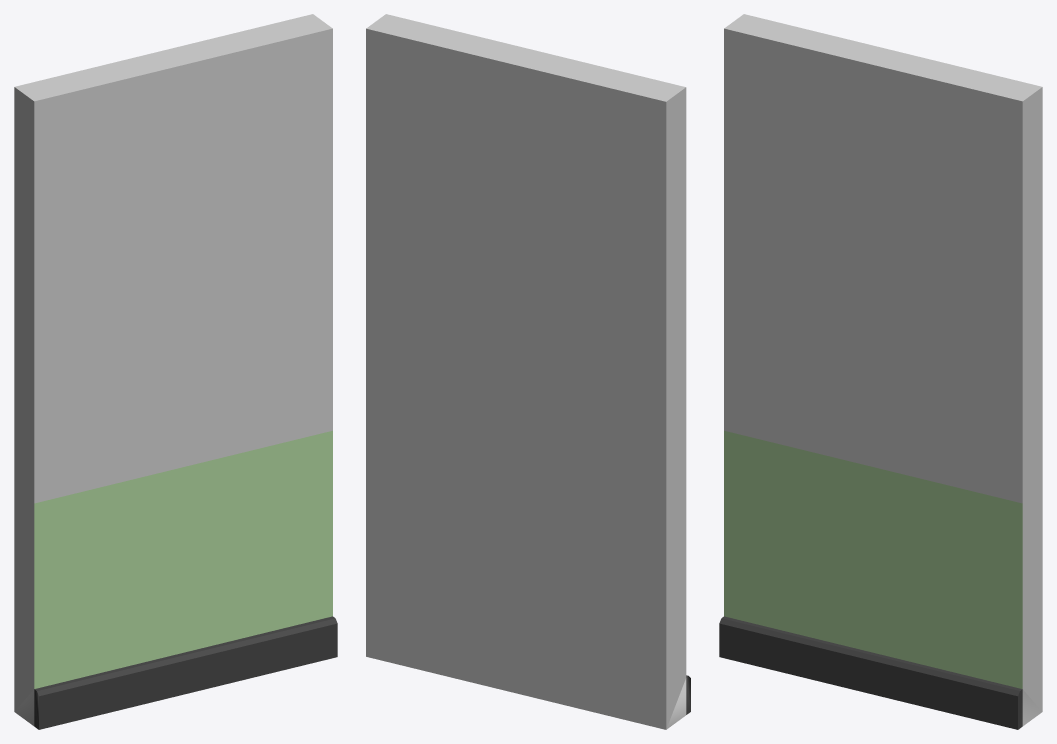
The model's file is School_Wall_Half.fbx.
3 views of the same model, side by side, from view 1: azimuth 30°, elevation 25°; view 2: azimuth 150°, elevation 25°; view 3: azimuth 330°, elevation 25° (orthographic).
Visible parts, largest first — view 1: School_Wall2_Half; view 2: School_Wall2_Half; view 3: School_Wall2_Half.
Part boxes in pixels (left/top/right/bottom): School_Wall2_Half: left=14, top=14, right=337, bottom=729; School_Wall2_Half: left=366, top=14, right=690, bottom=729; School_Wall2_Half: left=719, top=14, right=1042, bottom=729.
Bounding box in the file's own units: 125 × 250 × 17.83.
